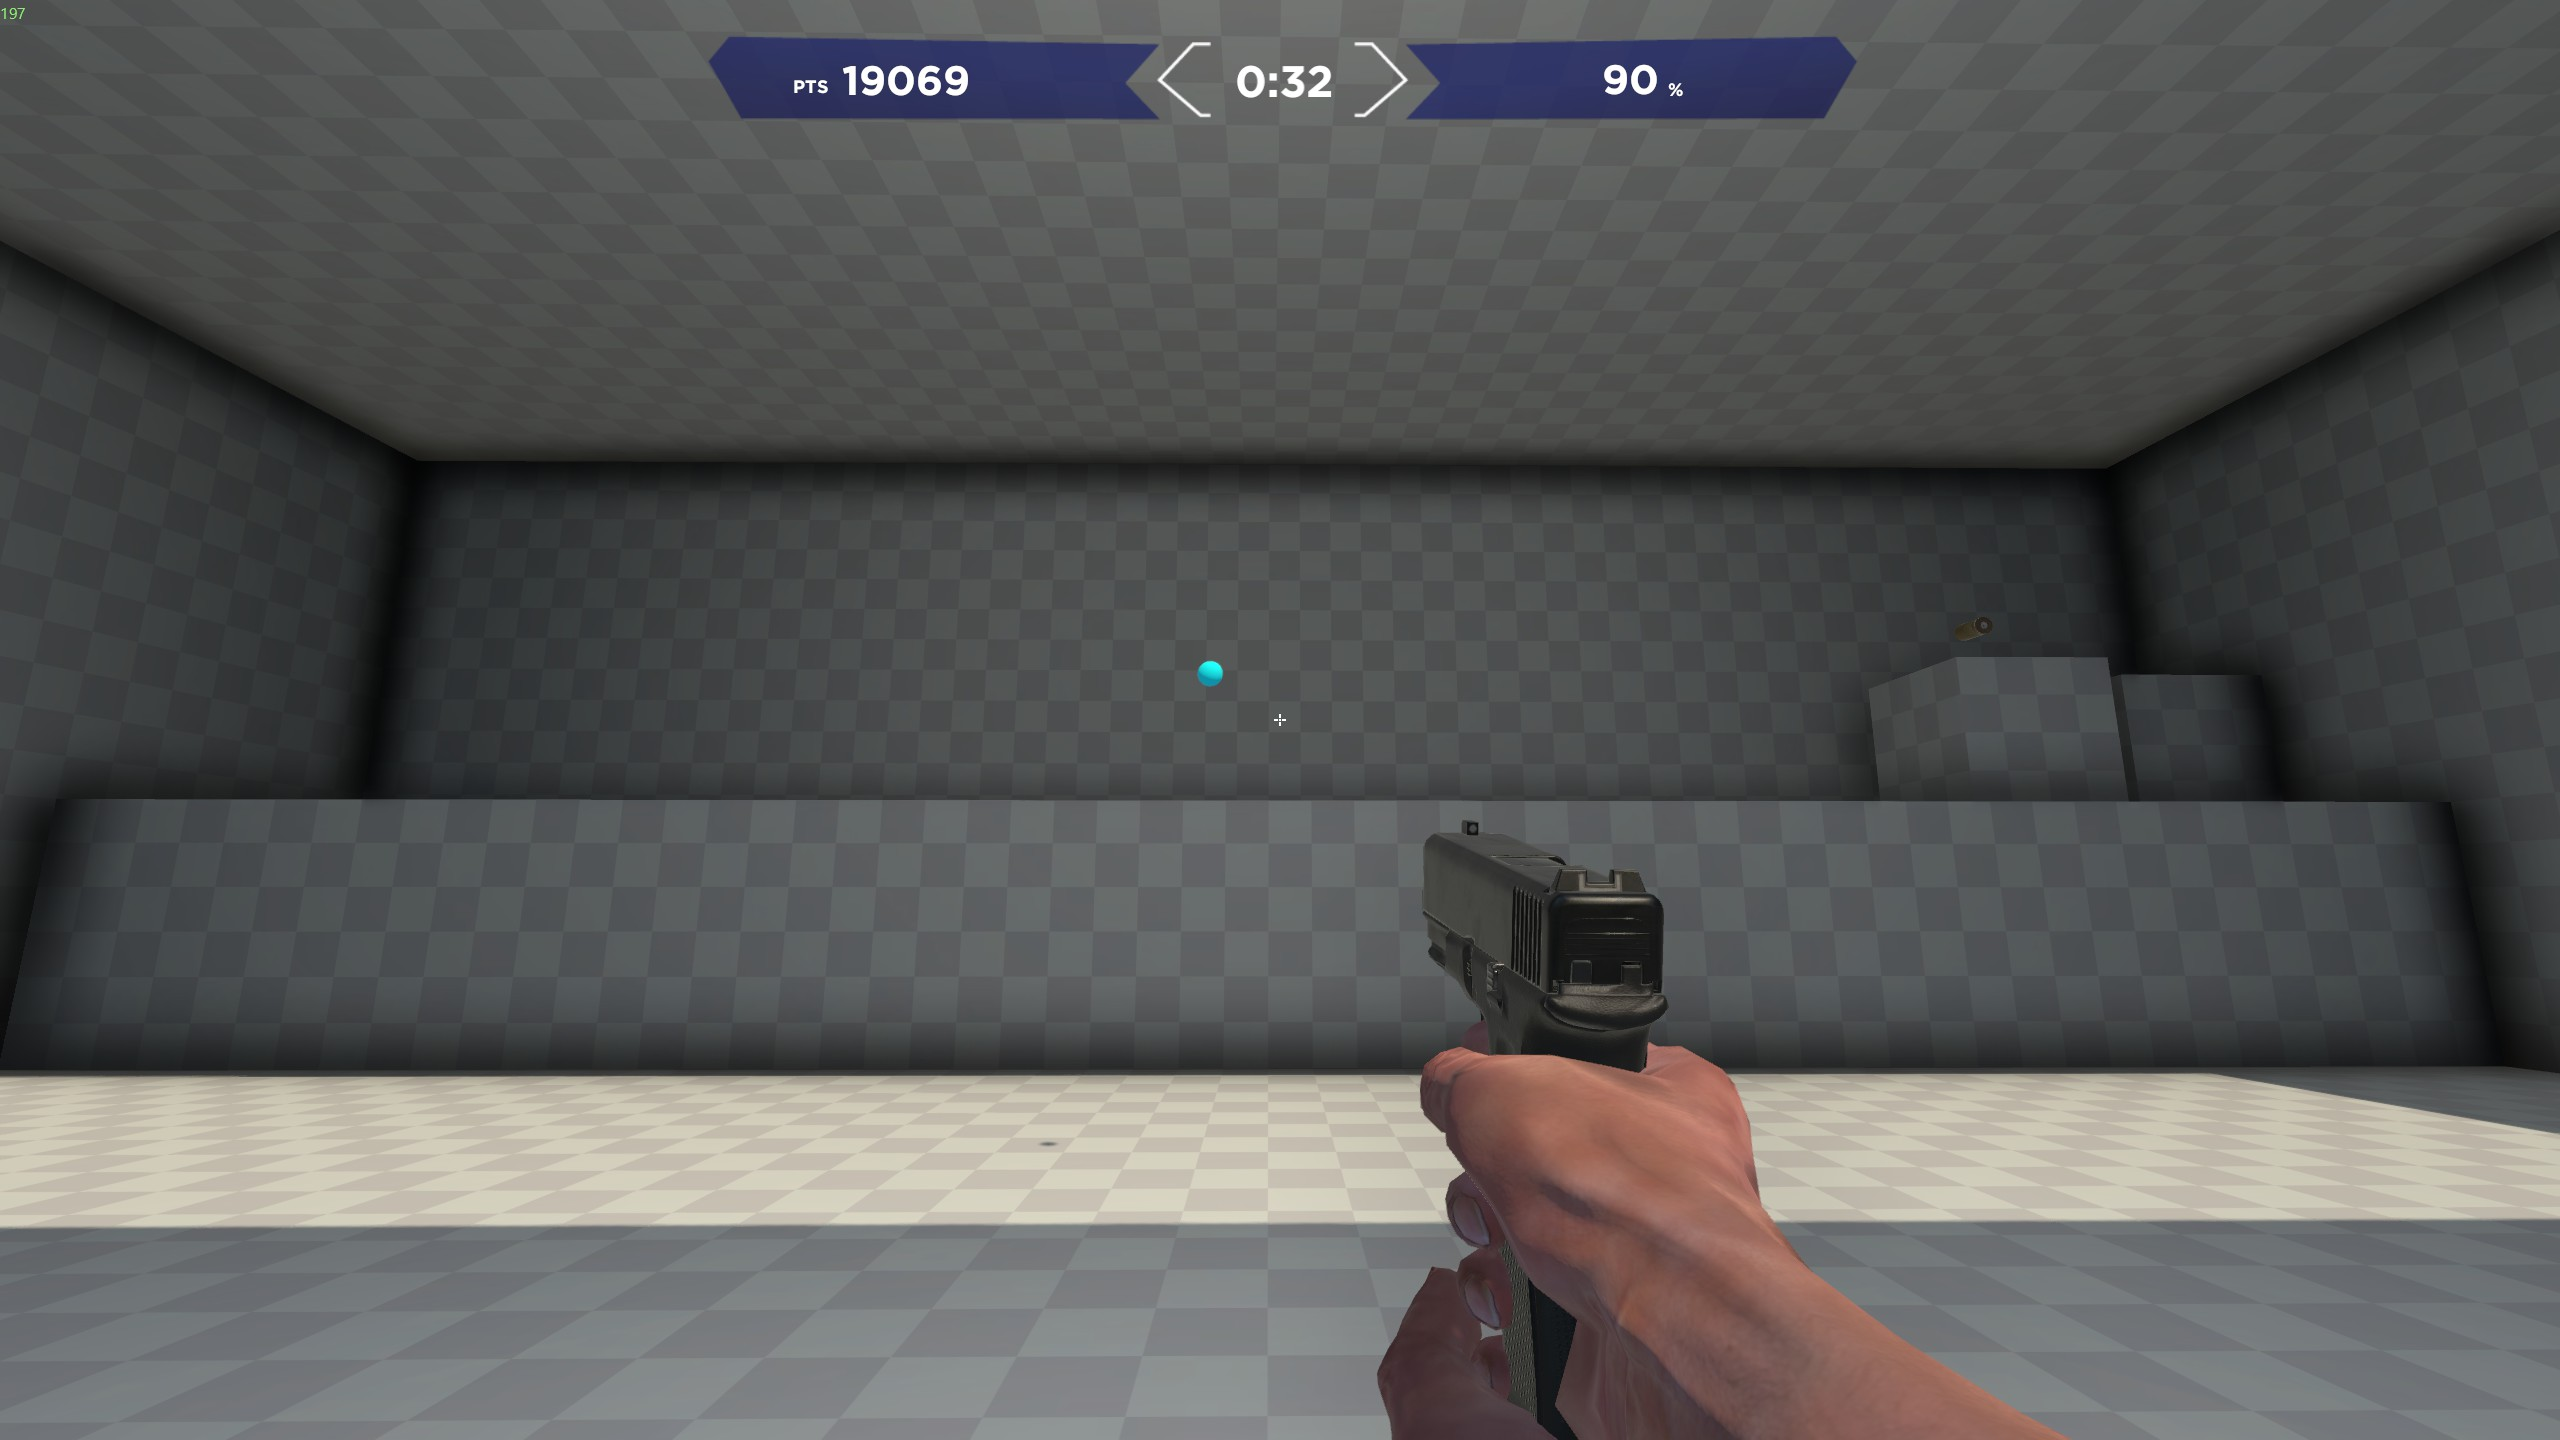Target: (1190, 659, 1231, 689)
